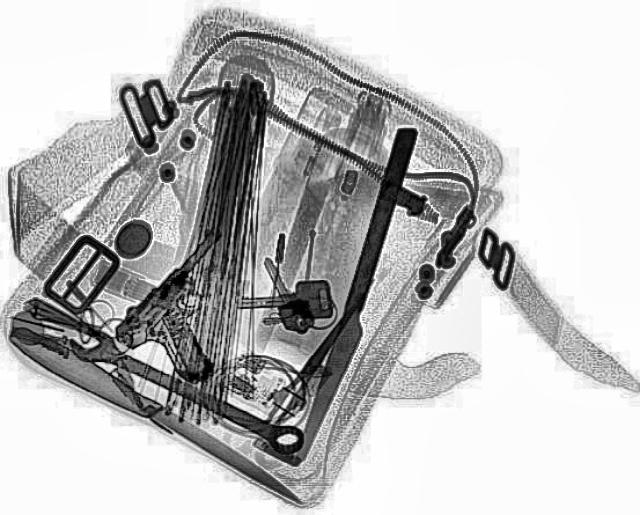Gun: (100, 226, 300, 384)
Knife: (0, 322, 312, 510), (294, 124, 426, 460), (250, 287, 380, 433)
Wrench: (60, 322, 314, 458)
